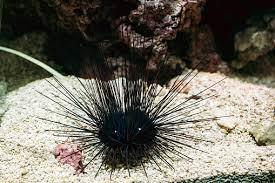urchin: (25, 16, 240, 183)
